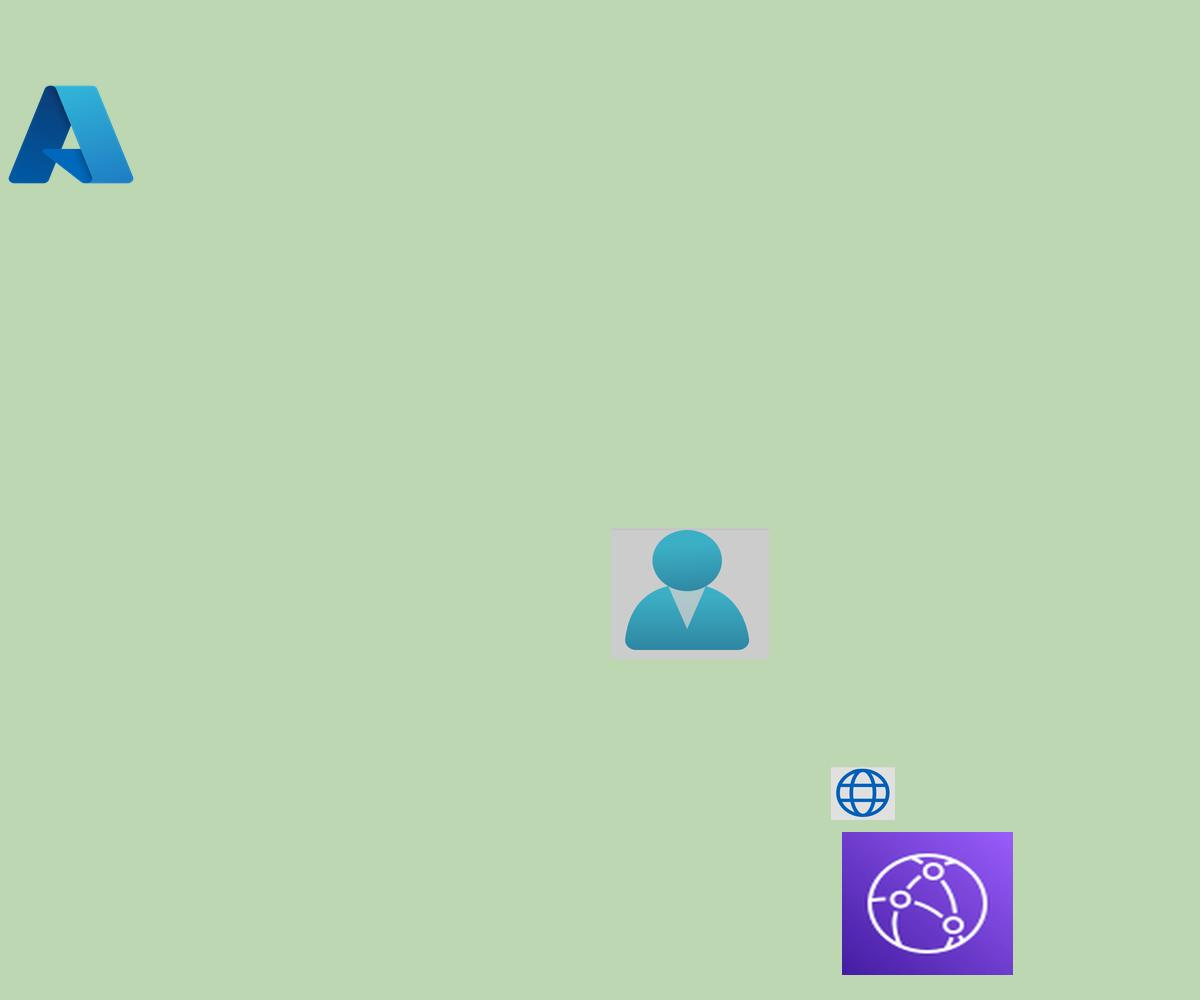AWS-CloudFront: (842, 832, 1013, 975)
Azure_http: (831, 767, 895, 820)
Azure_services: (3, 78, 139, 191)
Azure_users: (611, 528, 769, 659)
